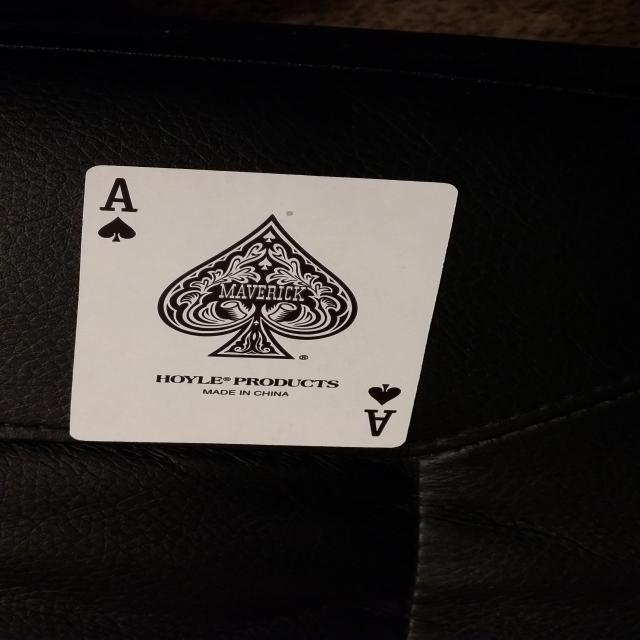As: (91, 172, 147, 248), (357, 379, 407, 444)
